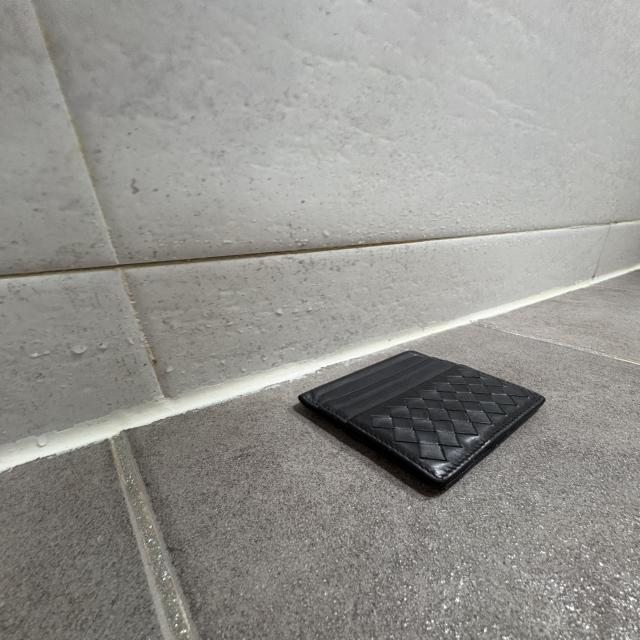wallet: (294, 348, 544, 500)
